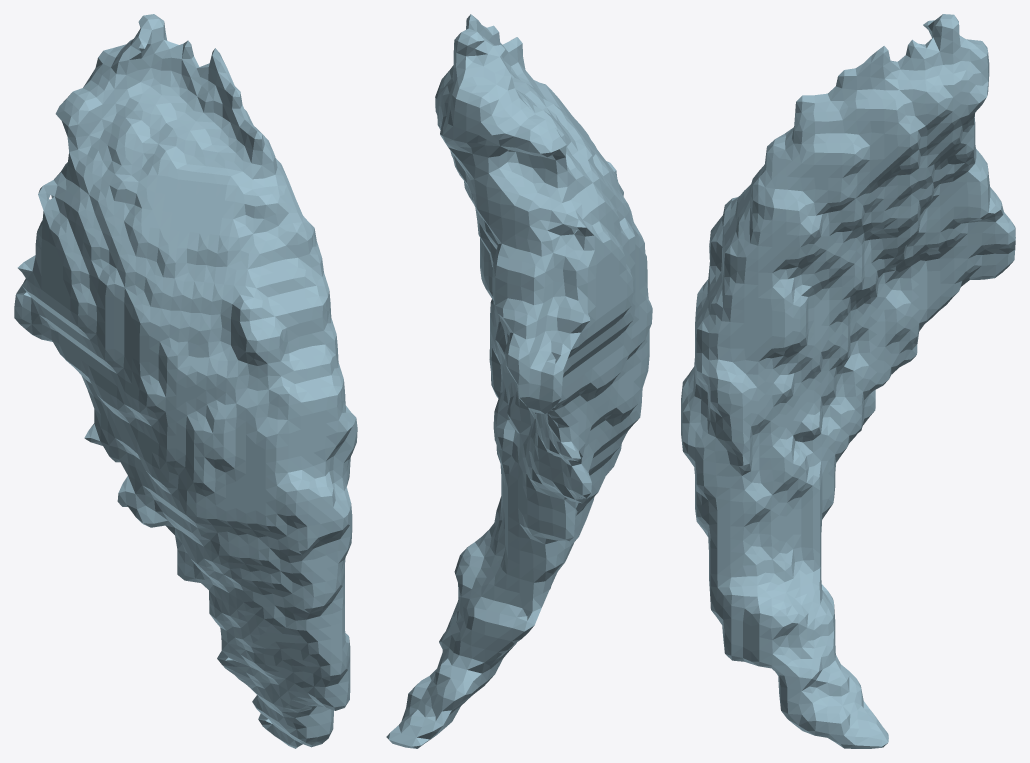
The model's file is aseg_050_Right-Caudate.glb.
The picture shows the model from 3 angles, left to right: view 1: azimuth 30°, elevation 25°; view 2: azimuth 150°, elevation 25°; view 3: azimuth 270°, elevation 25°; orthographic projection. The views are drawn at different scales.
Bounding box in the file's own units: 18.68 × 53.88 × 23.9.
